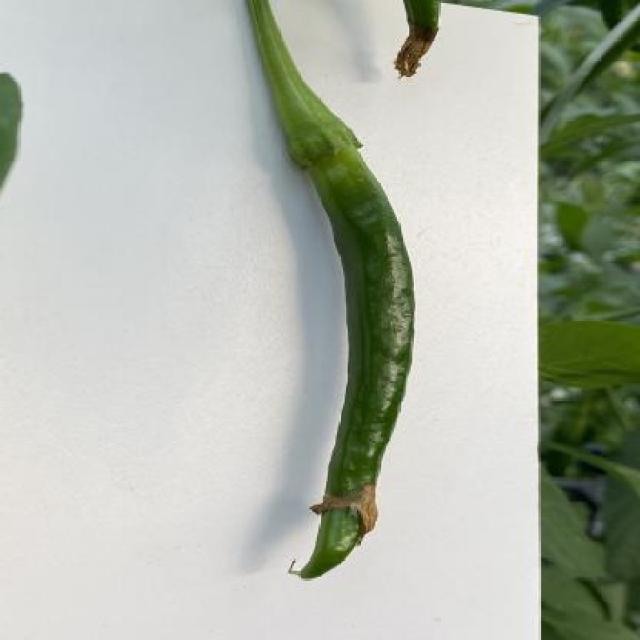green chilli: (298, 144, 416, 578)
